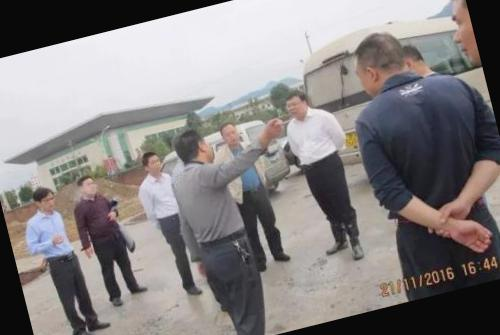no_helmet: (340, 22, 408, 98), (442, 0, 481, 69), (168, 122, 214, 174), (396, 39, 433, 81), (276, 82, 313, 121), (26, 179, 59, 215), (74, 168, 105, 203), (134, 146, 164, 178), (216, 117, 244, 149)
